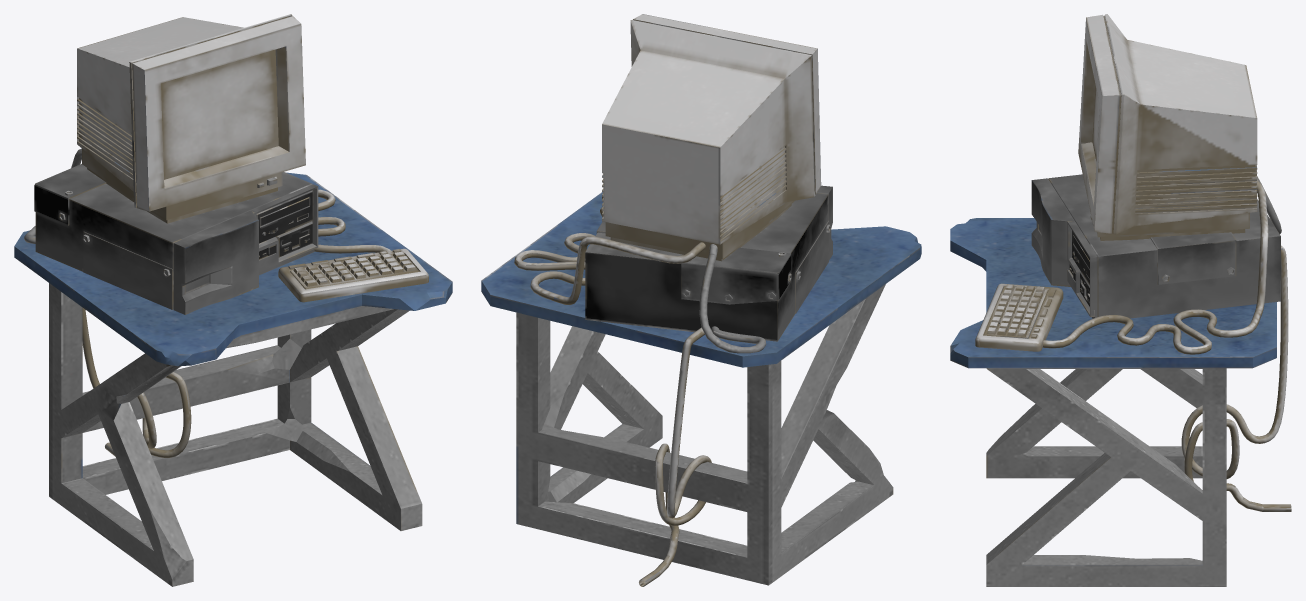
The model's file is table zapisi.fbx.
3 views of the same model, side by side, from view 1: azimuth 30°, elevation 25°; view 2: azimuth 150°, elevation 25°; view 3: azimuth 270°, elevation 25° (orthographic). The views are drawn at different scales.
Visible parts, largest first — view 1: Cube.002; view 2: Cube.002; view 3: Cube.002.
Part boxes in pixels (x1,y1,x2,y2): Cube.002: (14,14,452,586); Cube.002: (481,14,921,586); Cube.002: (950,14,1291,586).
Size of the model in its own units: 343 by 531 by 355.
